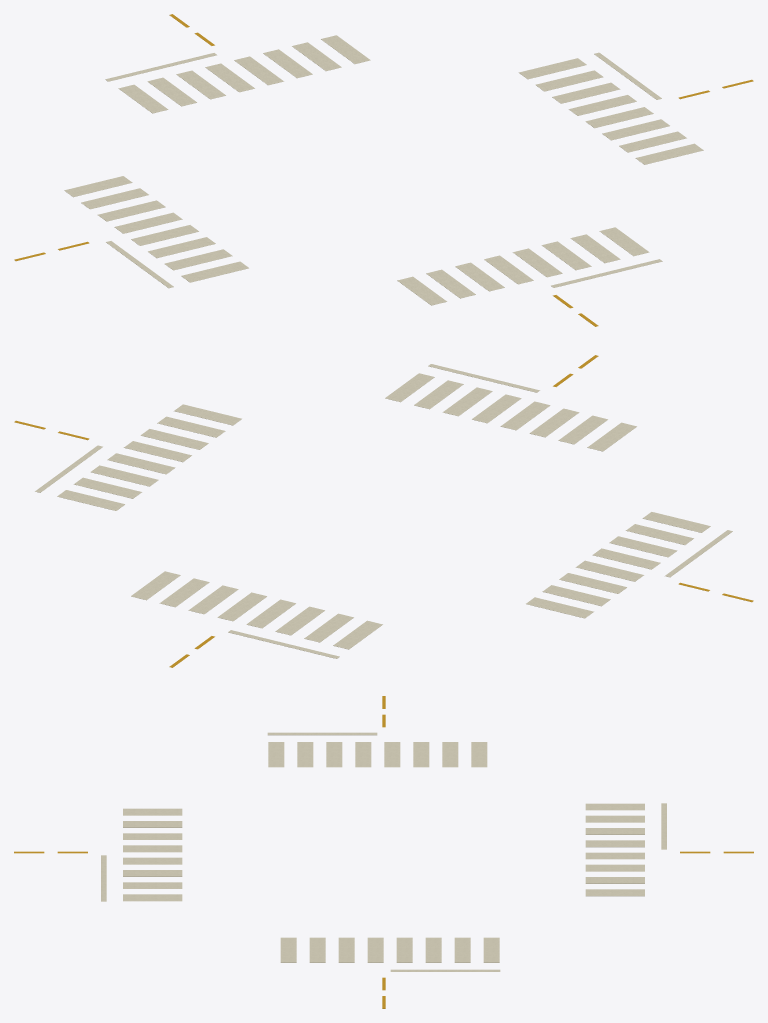
The model's file is PZ_FourWay_Road_Markings.glb.
The picture shows the model from 3 angles, top to bottom: view 1: azimuth 30°, elevation 25°; view 2: azimuth 150°, elevation 25°; view 3: azimuth 270°, elevation 25°; orthographic projection. The views are drawn at different scales.
Parts seen in each view (by area): view 1: PZ_MARK_Zebra_01_West, PZ_MARK_Zebra_05_West, PZ_MARK_Zebra_02_East, PZ_MARK_Zebra_03_West, PZ_MARK_Zebra_07_West, PZ_MARK_Zebra_06_East, PZ_MARK_Zebra_07_East, PZ_MARK_Zebra_02_West, PZ_MARK_Zebra_06_West, PZ_MARK_Zebra_08_West, PZ_MARK_Zebra_05_East, PZ_MARK_Zebra_01_East (+20 smaller); view 2: PZ_MARK_Zebra_03_East, PZ_MARK_Zebra_07_East, PZ_MARK_Zebra_04_West, PZ_MARK_Zebra_08_West, PZ_MARK_Zebra_05_East, PZ_MARK_Zebra_02_West, PZ_MARK_Zebra_06_West, PZ_MARK_Zebra_08_East, PZ_MARK_Zebra_03_West, PZ_MARK_Zebra_07_West, PZ_MARK_Zebra_01_East, PZ_MARK_Zebra_02_East (+20 smaller); view 3: no part large enough to name.
Boxes of the visible parts, <box> form: PZ_MARK_Zebra_01_West: <box>181,261,248,282</box>; PZ_MARK_Zebra_05_West: <box>114,212,182,233</box>; PZ_MARK_Zebra_02_East: <box>535,70,603,91</box>; PZ_MARK_Zebra_03_West: <box>148,237,215,258</box>; PZ_MARK_Zebra_07_West: <box>81,188,148,209</box>; PZ_MARK_Zebra_06_East: <box>602,119,669,140</box>; PZ_MARK_Zebra_07_East: <box>619,131,686,152</box>; PZ_MARK_Zebra_02_West: <box>164,249,232,270</box>; PZ_MARK_Zebra_06_West: <box>97,200,165,221</box>; PZ_MARK_Zebra_08_West: <box>64,176,132,197</box>; PZ_MARK_Zebra_05_East: <box>585,107,653,128</box>; PZ_MARK_Zebra_01_East: <box>519,58,586,79</box>; PZ_MARK_Zebra_03_East: <box>90,465,158,486</box>; PZ_MARK_Zebra_07_East: <box>157,416,225,437</box>; PZ_MARK_Zebra_04_West: <box>592,548,660,569</box>; PZ_MARK_Zebra_08_West: <box>526,597,593,618</box>; PZ_MARK_Zebra_05_East: <box>124,441,191,462</box>; PZ_MARK_Zebra_02_West: <box>626,524,693,544</box>; PZ_MARK_Zebra_06_West: <box>559,573,626,593</box>; PZ_MARK_Zebra_08_East: <box>174,404,241,425</box>; PZ_MARK_Zebra_03_West: <box>609,536,677,557</box>; PZ_MARK_Zebra_07_West: <box>542,585,610,606</box>; PZ_MARK_Zebra_01_East: <box>57,490,124,510</box>; PZ_MARK_Zebra_02_East: <box>74,477,141,498</box>.
Bounding box in the file's own units: 24 × 0.005 × 24.
2 materials, 2 textured.
